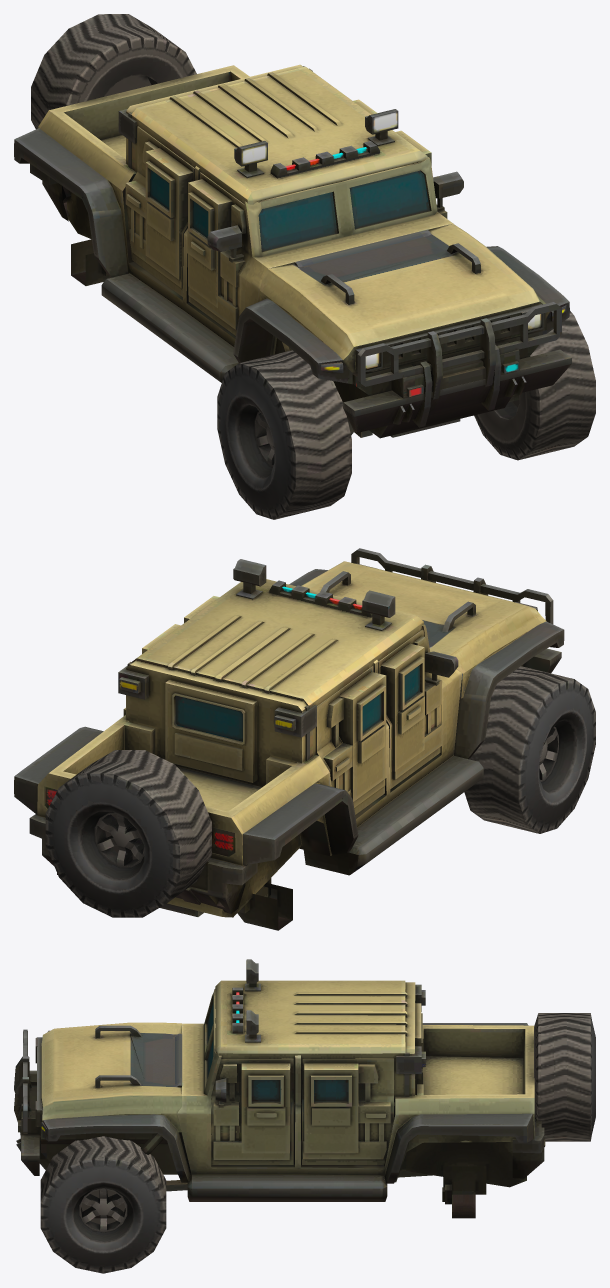
Rendered from Hummer_M.FBX.
3 renders of one model, top to bottom at view 1: azimuth 30°, elevation 25°; view 2: azimuth 150°, elevation 25°; view 3: azimuth 270°, elevation 25°, orthographic. The views are drawn at different scales.
Parts seen in each view (by area): view 1: Hummer_M_Body, Hummer_M_Wheel-1, Hummer_M_Wheel-5, Hummer_M_Wheel-2; view 2: Hummer_M_Body, Hummer_M_Wheel-5, Hummer_M_Wheel-1; view 3: Hummer_M_Body, Hummer_M_Wheel-2, Hummer_M_Wheel-5.
Part boxes in pixels (x1,y1,x2,y2): Hummer_M_Body: (14,64,571,438); Hummer_M_Wheel-1: (217,350,351,519); Hummer_M_Wheel-5: (31,14,196,129); Hummer_M_Wheel-2: (474,311,595,460); Hummer_M_Body: (14,548,564,930); Hummer_M_Wheel-5: (45,750,211,917); Hummer_M_Wheel-1: (464,666,595,833); Hummer_M_Body: (14,959,545,1218); Hummer_M_Wheel-2: (40,1136,166,1273); Hummer_M_Wheel-5: (534,1013,595,1141).
Size of the model in its own units: 137 by 119 by 277.
2 materials, 2 textured.
